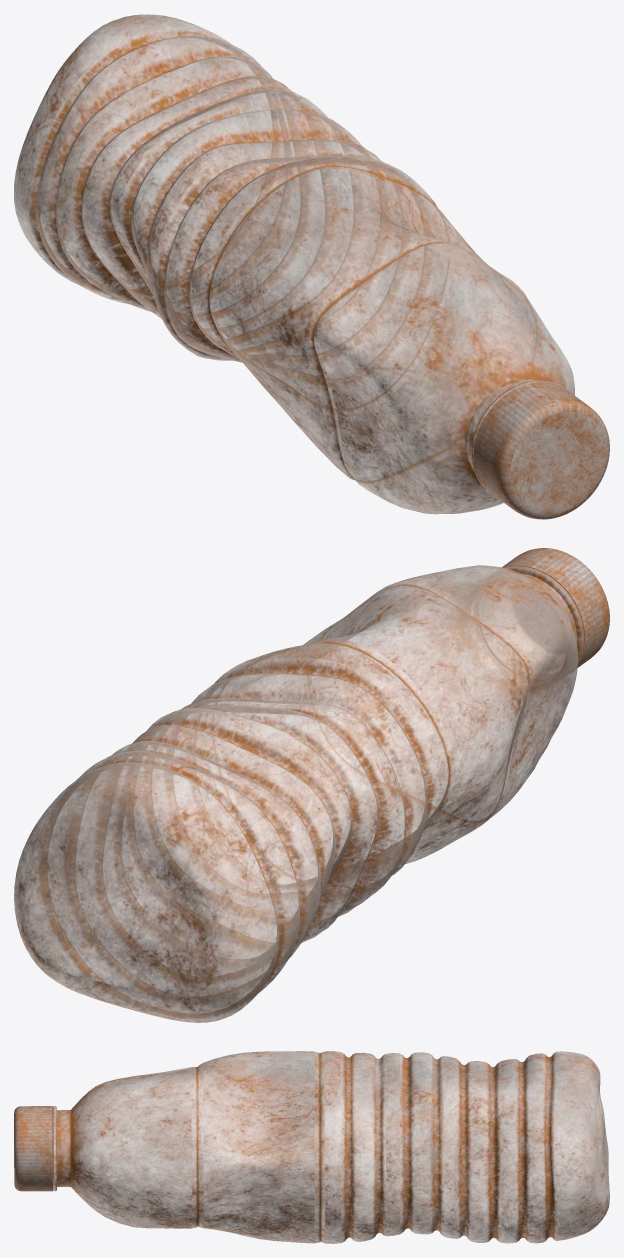
The model's file is prop_water_bottle.glb.
3 views of the same model, one above another, from view 1: azimuth 30°, elevation 25°; view 2: azimuth 150°, elevation 25°; view 3: azimuth 270°, elevation 25° (orthographic). The views are drawn at different scales.
Parts seen in each view (by area): view 1: Beat_Water_Bottle, Bottle_Cap; view 2: Beat_Water_Bottle, Bottle_Cap; view 3: Beat_Water_Bottle, Bottle_Cap.
Part boxes in pixels (<box>): Beat_Water_Bottle: <box>14,14,574,514</box>; Bottle_Cap: <box>473,382,609,519</box>; Beat_Water_Bottle: <box>14,565,584,1022</box>; Bottle_Cap: <box>490,548,609,667</box>; Beat_Water_Bottle: <box>52,1051,609,1243</box>; Bottle_Cap: <box>14,1106,52,1191</box>.
Size of the model in its own units: 6.74 by 6.73 by 20.85.
Materials: 2 (2 with a texture image).
